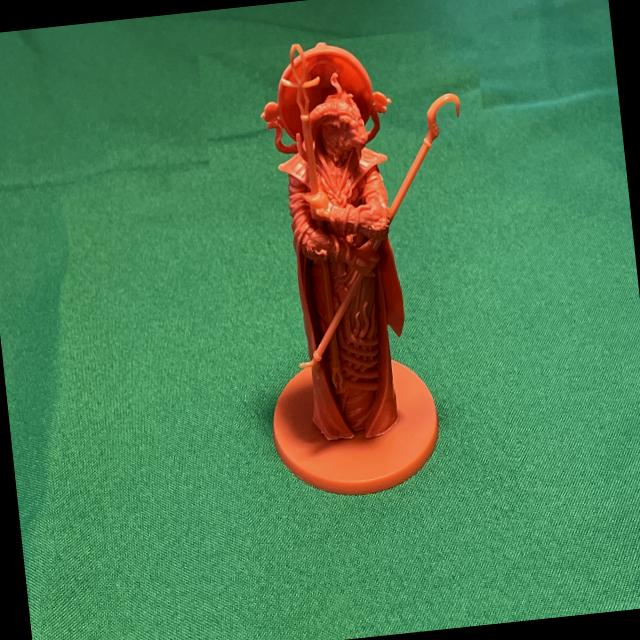amon: (198, 24, 526, 550)
